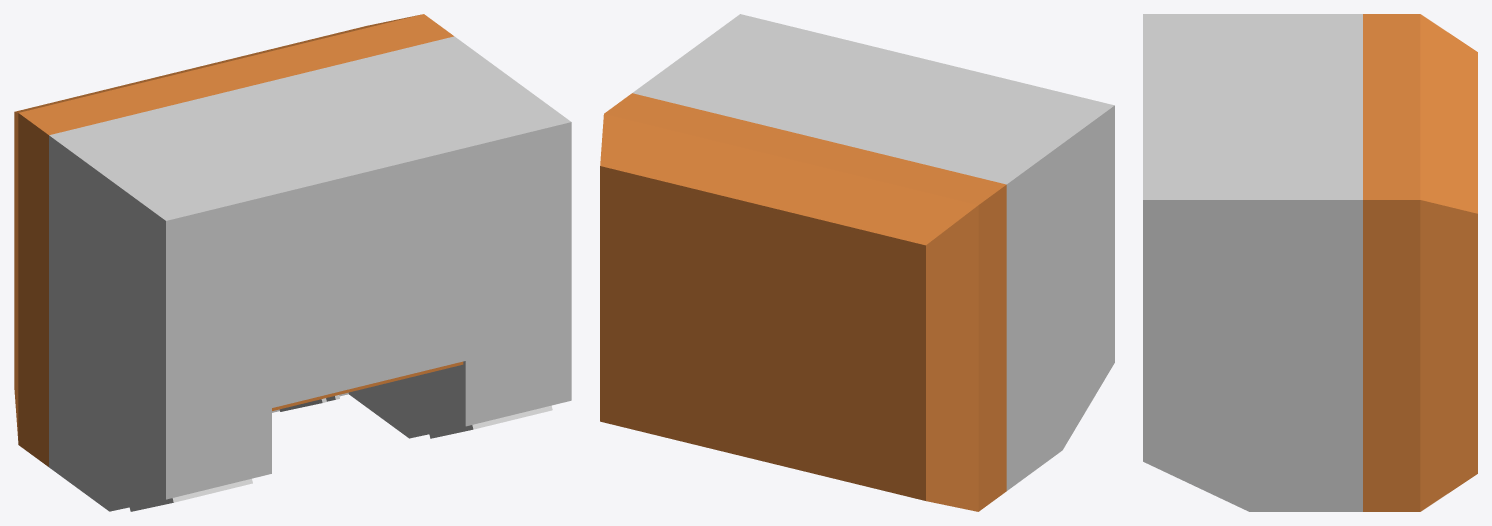
Rendered from cnc_horizontal_machining_center_3_state_2.dae.
3 renders of one model, left to right at view 1: azimuth 30°, elevation 25°; view 2: azimuth 150°, elevation 25°; view 3: azimuth 270°, elevation 25°, orthographic. The views are drawn at different scales.
Visible parts, largest first — view 1: coords_ME_ID11_MA_material_8, coords_ME_ID33_MA_material_10, coords_ME_ID97_MA_material_10, coords_ME_ID55_MA_material_8, coords_ME_ID67_MA_material_8; view 2: coords_ME_ID33_MA_material_10, coords_ME_ID11_MA_material_8; view 3: coords_ME_ID11_MA_material_8, coords_ME_ID33_MA_material_10.
Part boxes in pixels (x1=…): coords_ME_ID11_MA_material_8: x1=49, y1=36, x2=571, y2=511; coords_ME_ID33_MA_material_10: x1=14, y1=14, x2=453, y2=466; coords_ME_ID97_MA_material_10: x1=272, y1=361, x2=463, y2=410; coords_ME_ID55_MA_material_8: x1=129, y1=478, x2=252, y2=511; coords_ME_ID67_MA_material_8: x1=429, y1=405, x2=552, y2=438; coords_ME_ID33_MA_material_10: x1=600, y1=93, x2=1006, y2=511; coords_ME_ID11_MA_material_8: x1=632, y1=14, x2=1114, y2=490; coords_ME_ID11_MA_material_8: x1=1143, y1=14, x2=1362, y2=511; coords_ME_ID33_MA_material_10: x1=1363, y1=14, x2=1477, y2=511.
Size of the model in its own units: 39.84 by 31.61 by 30.31.
